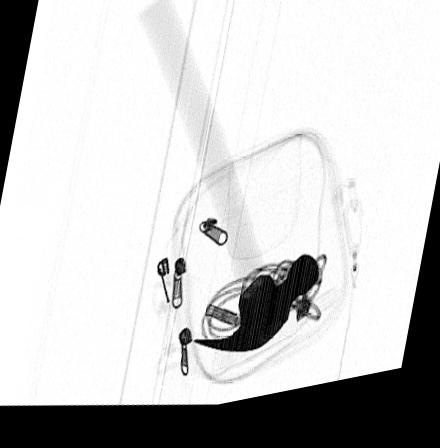Hammer: (137, 0, 318, 363)
